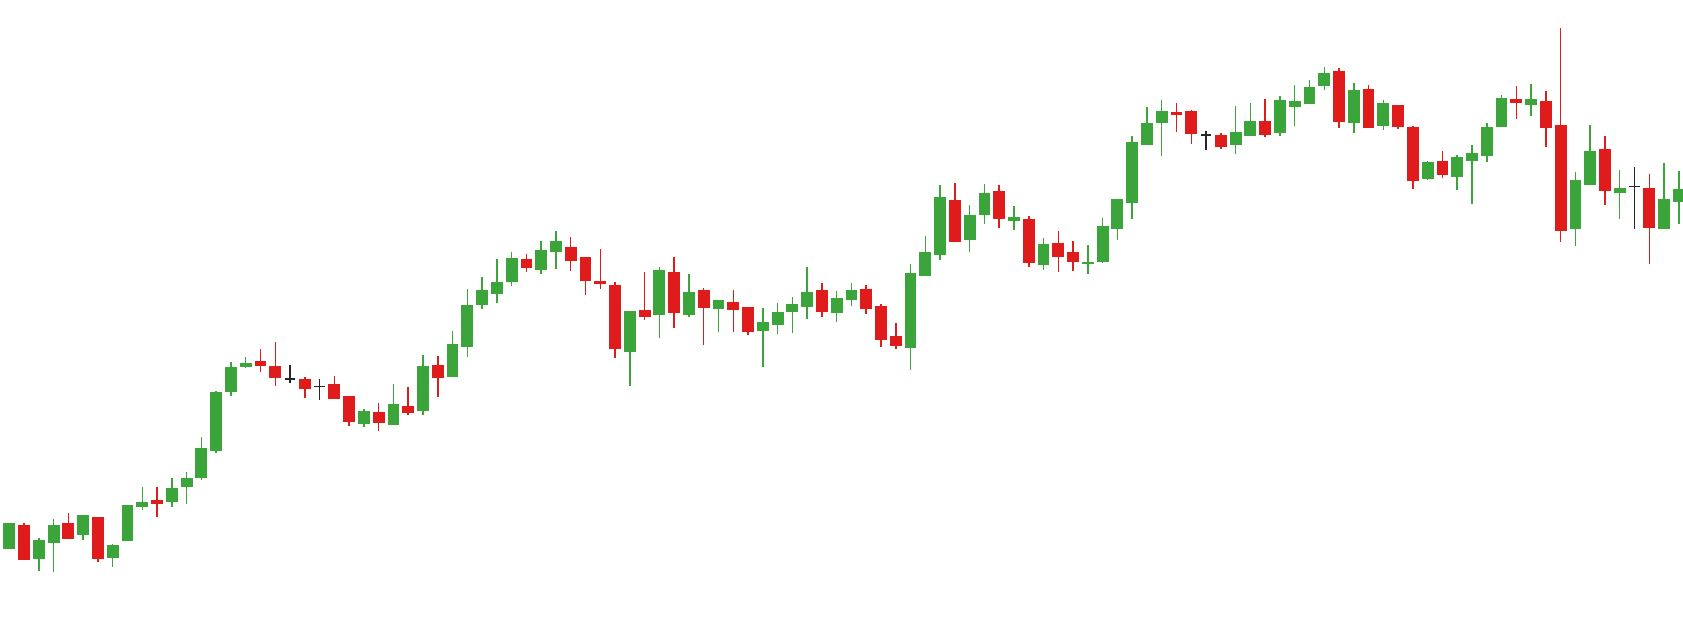buy: (757, 298, 918, 373)
